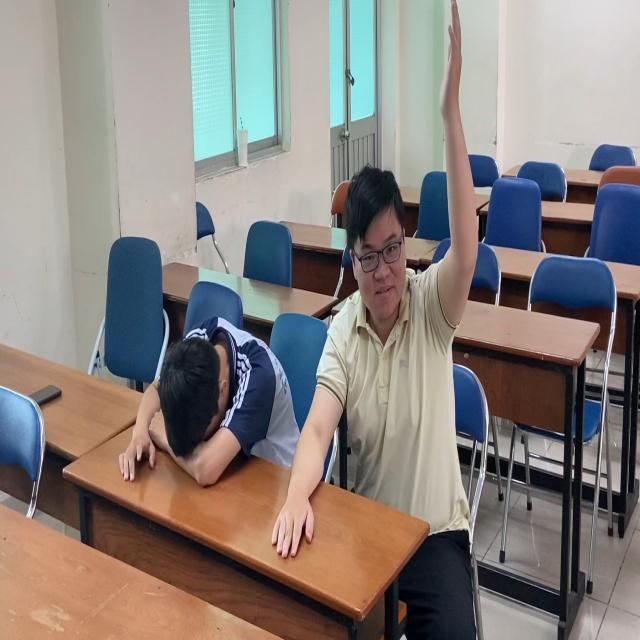raise_hand: (341, 3, 483, 582)
sleep: (118, 310, 300, 495)
